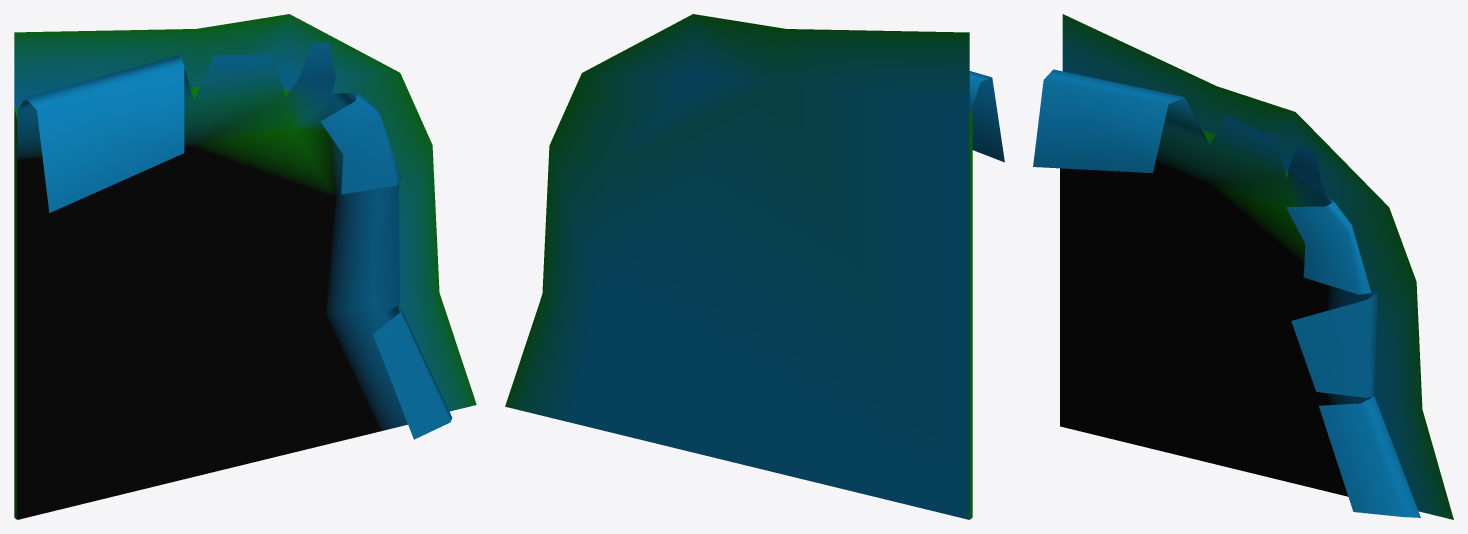
The model's file is DBK_Drywall_End_B_Single.fbx.
3 renders of one model, left to right at view 1: azimuth 30°, elevation 25°; view 2: azimuth 150°, elevation 25°; view 3: azimuth 330°, elevation 25°, orthographic. The views are drawn at different scales.
Parts seen in each view (by area): view 1: DBK_Drywall_End_B_Single; view 2: DBK_Drywall_End_B_Single; view 3: DBK_Drywall_End_B_Single.
Part boxes in pixels (x1,y1,x2,y2): DBK_Drywall_End_B_Single: [14, 14, 476, 519]; DBK_Drywall_End_B_Single: [505, 14, 1004, 519]; DBK_Drywall_End_B_Single: [1033, 14, 1453, 519].
Size of what is drawn, in the model's own units: 163 by 164 by 26.74.
